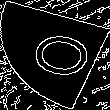O_E: (15, 25, 95, 85)
